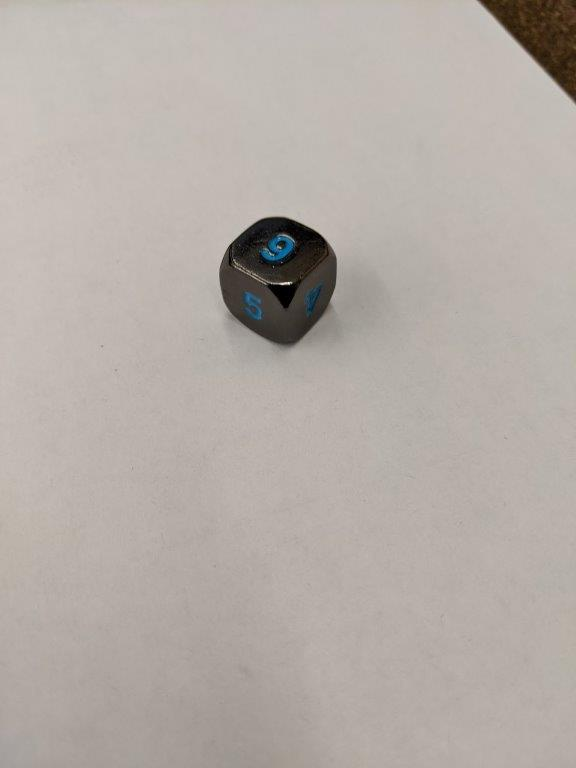d6-6: (220, 214, 338, 349)
